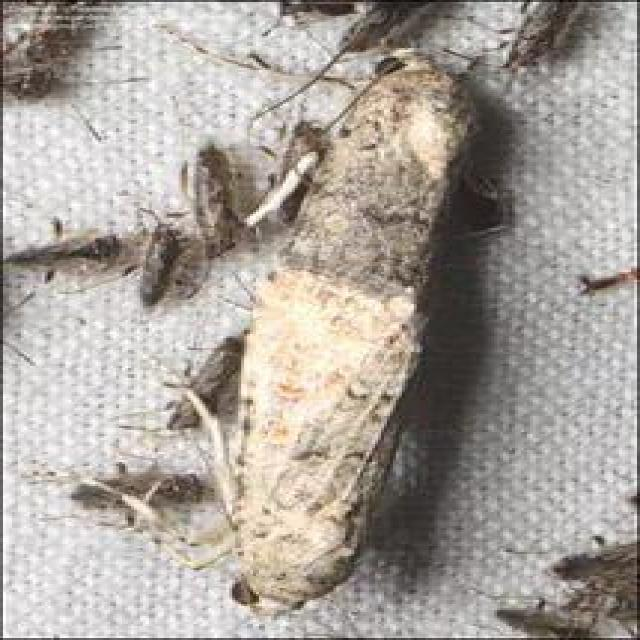BeetArmyWorm-Adult-: (208, 251, 441, 622)
